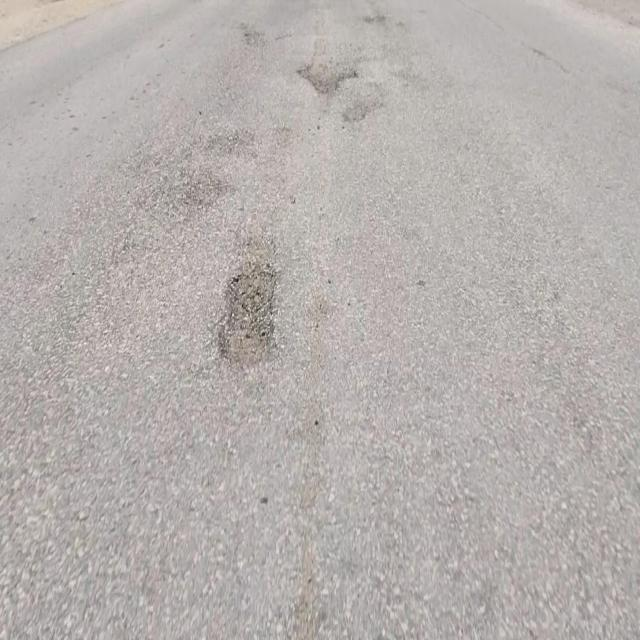Potholes: (218, 257, 277, 378), (294, 38, 362, 108)
